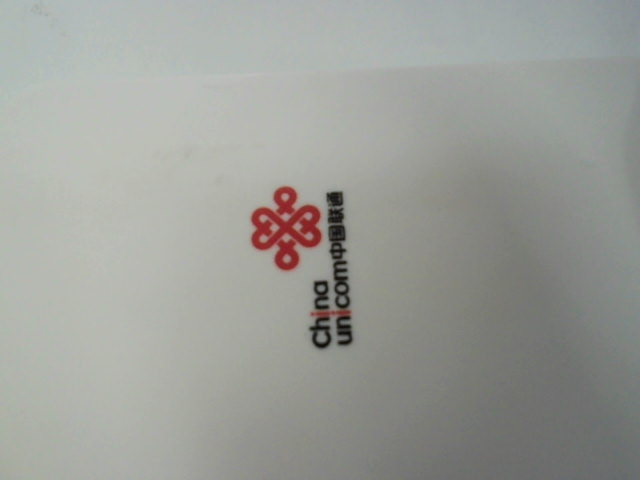AC_ChinaUnicom: (244, 169, 371, 357)
